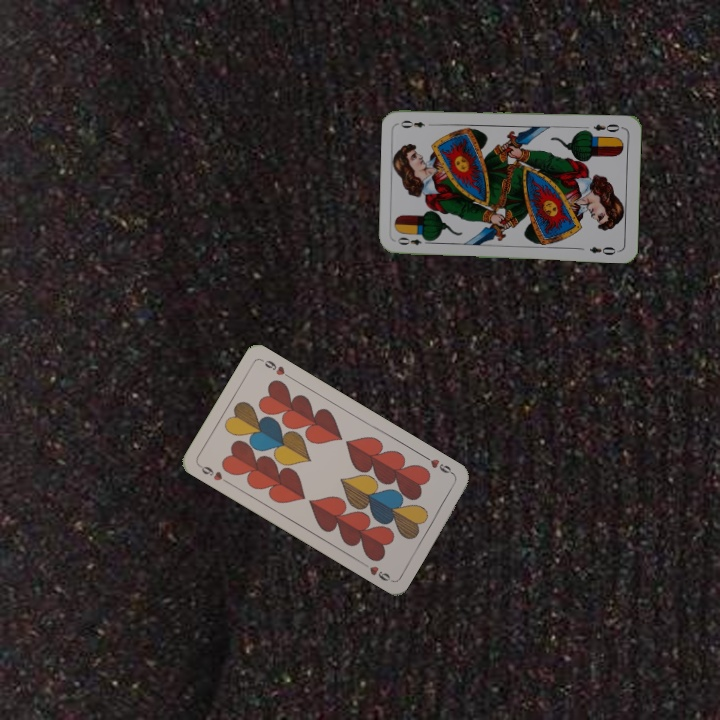EO: (394, 233, 433, 248), (589, 120, 625, 134)
H9: (420, 452, 457, 478), (195, 461, 232, 486)
